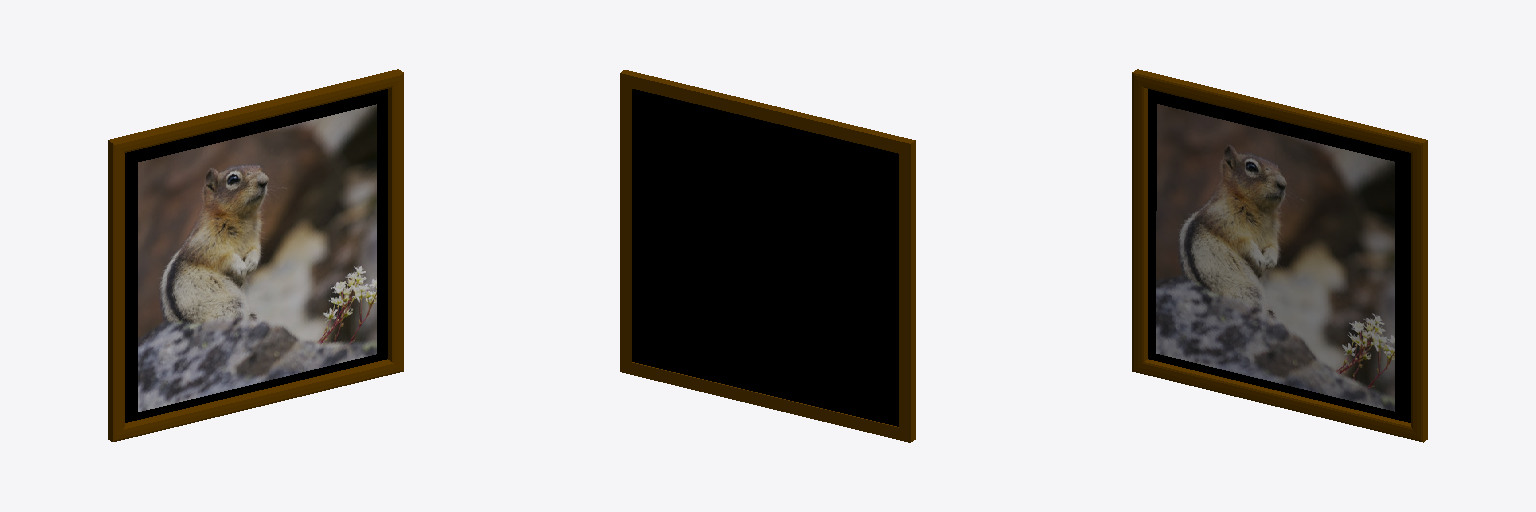
3 views of the same model, side by side, from view 1: azimuth 30°, elevation 25°; view 2: azimuth 150°, elevation 25°; view 3: azimuth 330°, elevation 25° (orthographic).
Parts seen in each view (by area): view 1: Photo_Cube_Material_Squirrel, WoodFrame_Cylinder_Wood.001, Frame_Black_Material.011; view 2: Frame_Black_Material.011, WoodFrame_Cylinder_Wood.001; view 3: Photo_Cube_Material_Squirrel, WoodFrame_Cylinder_Wood.001, Frame_Black_Material.011.
Boxes of the visible parts, box(x1,y1,x2,y2) form: Photo_Cube_Material_Squirrel: box(138, 104, 376, 411); WoodFrame_Cylinder_Wood.001: box(108, 69, 403, 441); Frame_Black_Material.011: box(125, 89, 387, 422); Frame_Black_Material.011: box(632, 89, 898, 426); WoodFrame_Cylinder_Wood.001: box(620, 70, 915, 442); Photo_Cube_Material_Squirrel: box(1156, 104, 1394, 411); WoodFrame_Cylinder_Wood.001: box(1132, 69, 1427, 442); Frame_Black_Material.011: box(1148, 89, 1410, 422).
Size of the model in its own units: 48.72 by 47.86 by 1.6.
3 materials, 1 textured.